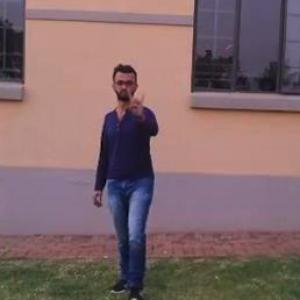takeoff-hand: (122, 85, 152, 121)
